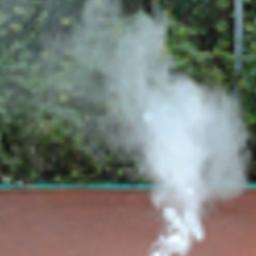smoke: (0, 0, 248, 254)
